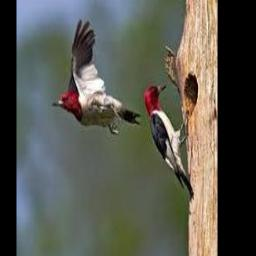Woodpecker: (52, 19, 141, 135), (143, 83, 194, 200)
